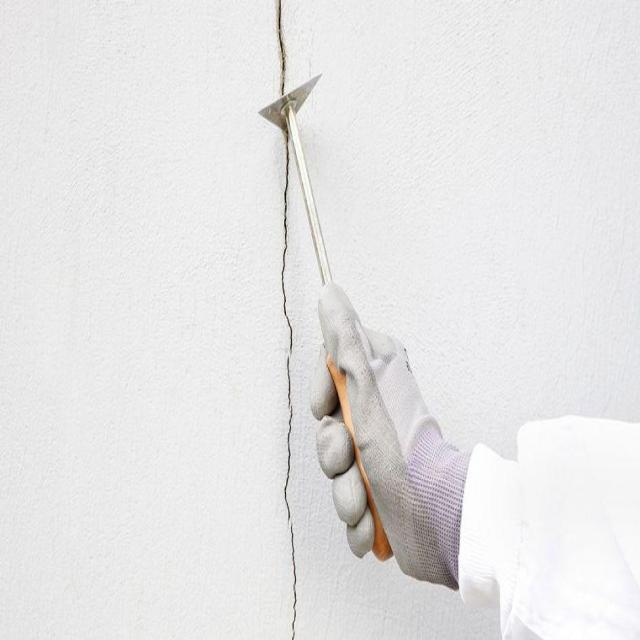crack: (279, 137, 298, 639), (274, 3, 288, 96)
